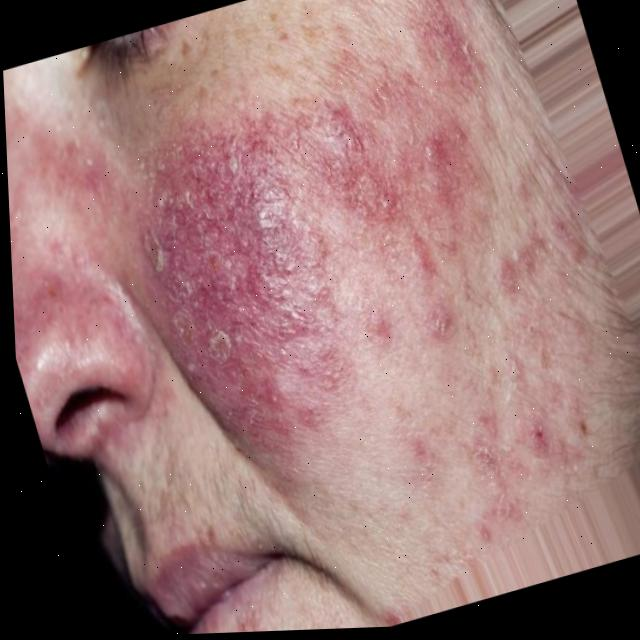Rosacea: (96, 40, 590, 486)
